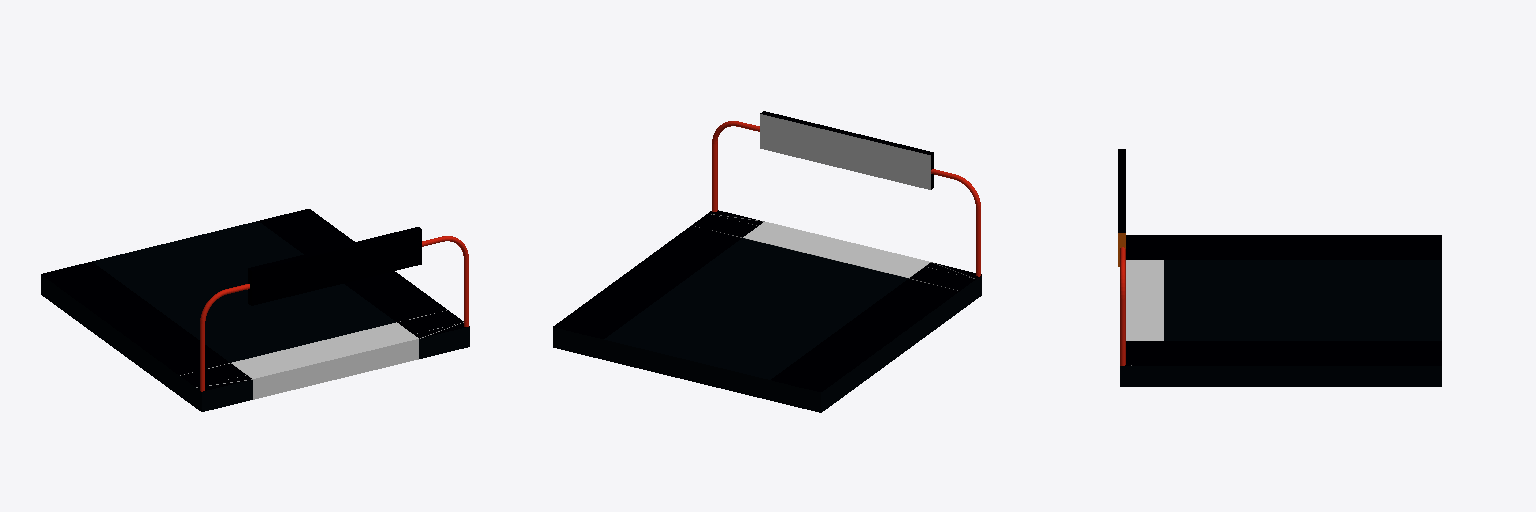
The model's file is StartPoint.obj.
3 views of the same model, side by side, from view 1: azimuth 30°, elevation 25°; view 2: azimuth 150°, elevation 25°; view 3: azimuth 270°, elevation 25° (orthographic).
Parts seen in each view (by area): view 1: Cylinder; view 2: Cylinder; view 3: Cylinder.
Boxes of the visible parts, box(x1,y1,x2,y2) form: Cylinder: box(41, 209, 469, 411); Cylinder: box(553, 111, 981, 412); Cylinder: box(1118, 149, 1441, 386).
Size of the model in its own units: 16.14 by 7.46 by 16.86.